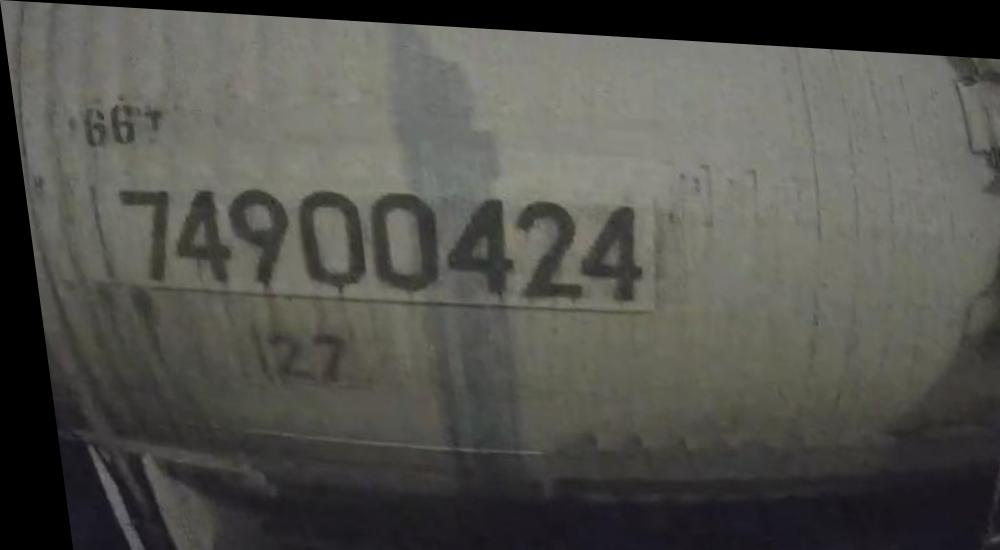Wagon-number: (97, 167, 650, 309)
